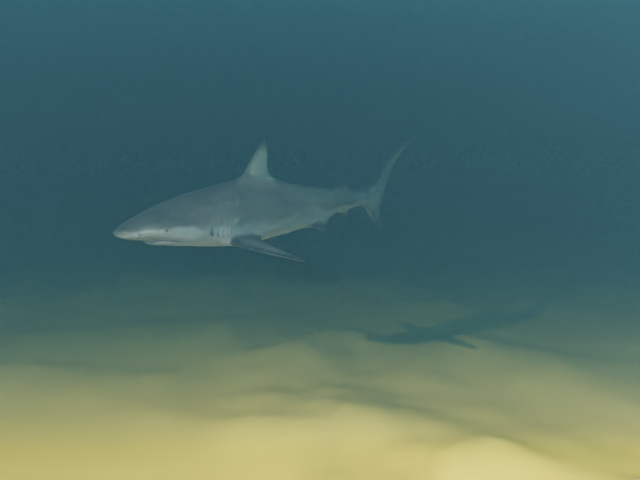Carribean Shark.001: (113, 138, 413, 261)
